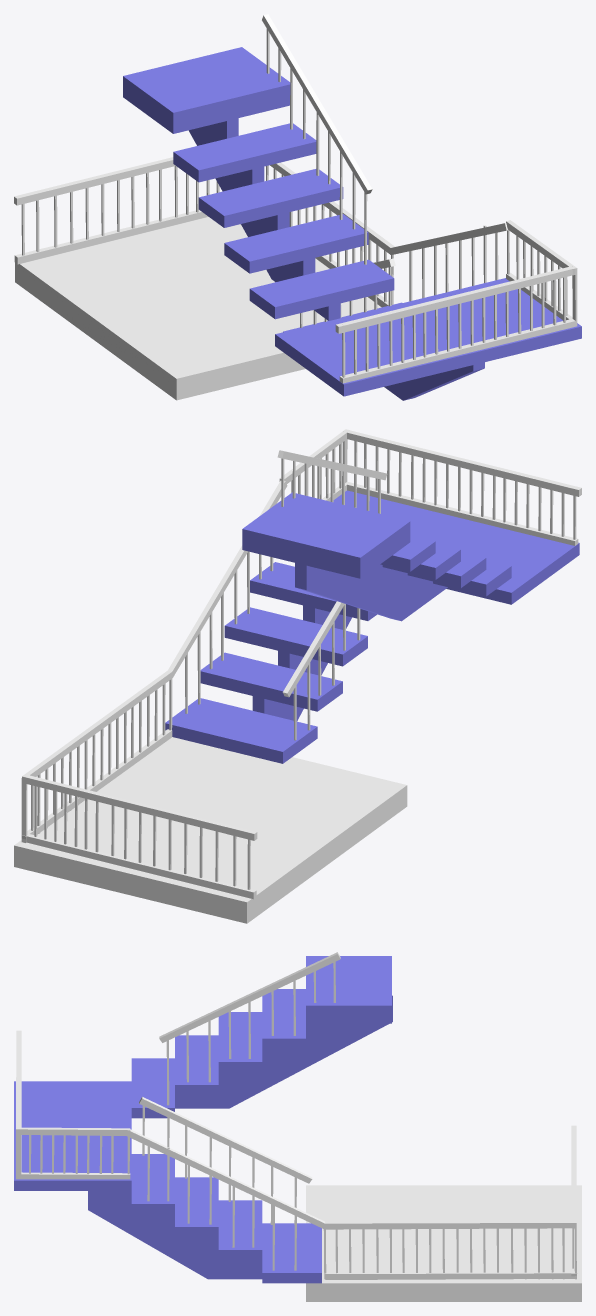
File: Stair-case.fbx
3 renders of one model, top to bottom at view 1: azimuth 30°, elevation 25°; view 2: azimuth 150°, elevation 25°; view 3: azimuth 270°, elevation 25°, orthographic. The views are drawn at different scales.
Parts seen in each view (by area): view 1: Stair, balcony_floor_stairs, stair_railings; view 2: Stair, balcony_floor_stairs, stair_railings; view 3: Stair, balcony_floor_stairs, stair_railings.
Boxes of the visible parts, x1,y1,x2,y2 form: Stair: (123, 47, 581, 400); balcony_floor_stairs: (15, 217, 381, 400); stair_railings: (14, 14, 577, 383); Stair: (165, 490, 579, 763); balcony_floor_stairs: (14, 737, 407, 923); stair_railings: (21, 429, 581, 899); Stair: (14, 956, 392, 1283); balcony_floor_stairs: (306, 1185, 581, 1301); stair_railings: (16, 952, 577, 1279).
Size of the model in its own units: 305 by 417 by 725.
